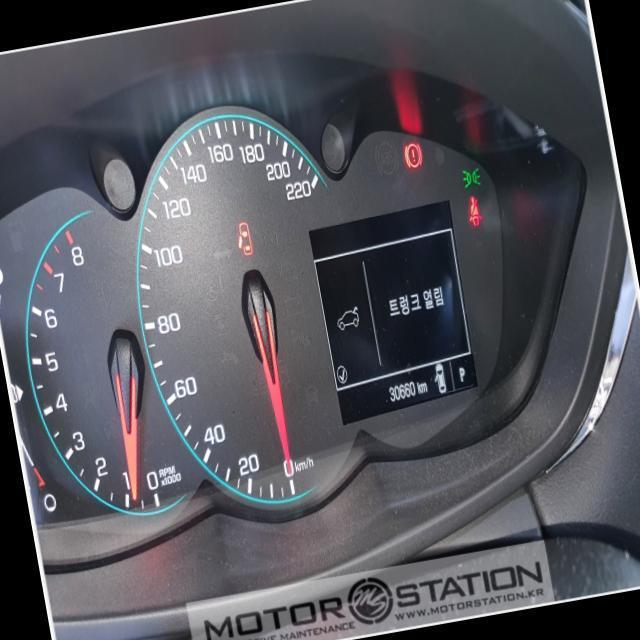Doors: (232, 219, 254, 256)
SideLamp: (459, 164, 482, 189)
